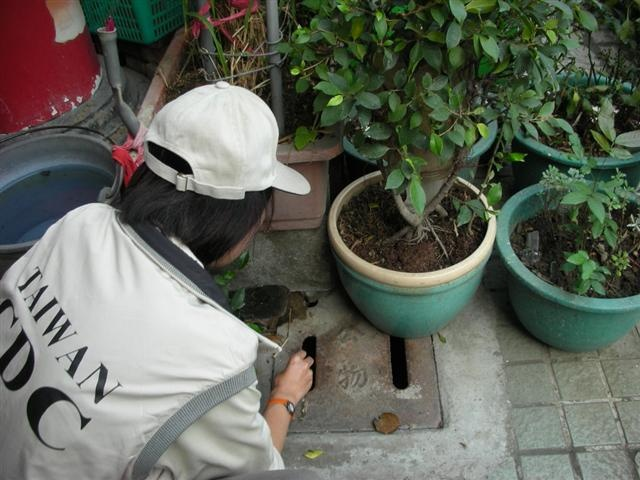bucket: (1, 126, 126, 267)
